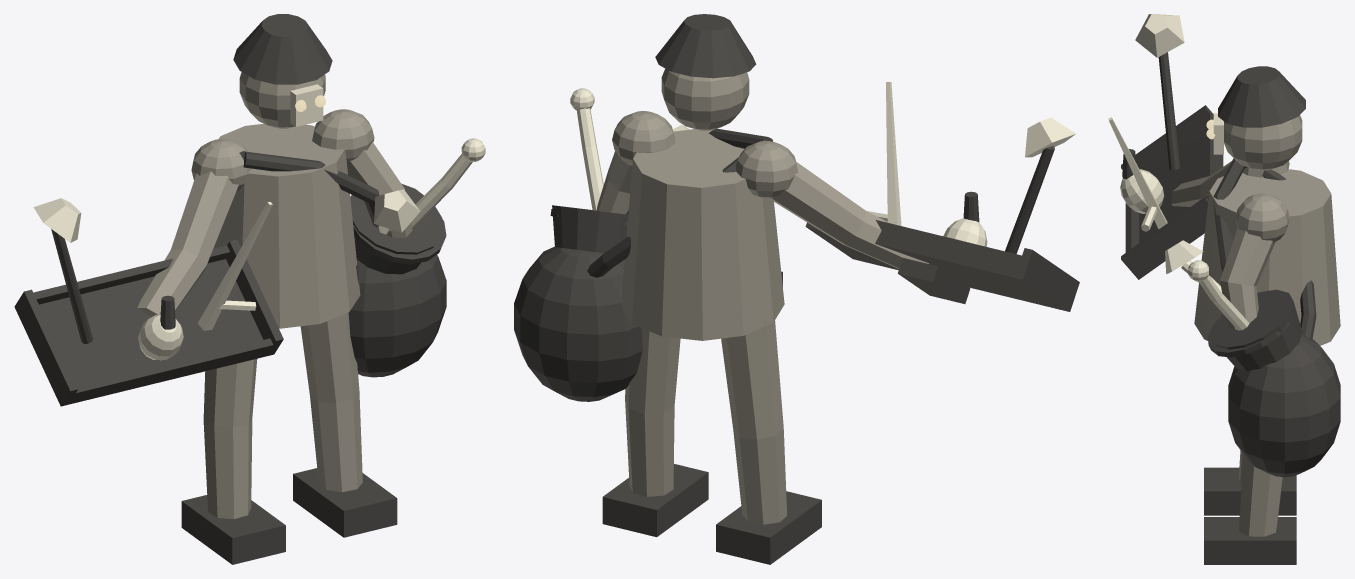
File: almoner.glb
The picture shows the model from 3 angles, left to right: view 1: azimuth 30°, elevation 25°; view 2: azimuth 150°, elevation 25°; view 3: azimuth 270°, elevation 25°; orthographic projection. The views are drawn at different scales.
Parts seen in each view (by area): view 1: almoner_dark, almoner_body, almoner_bone; view 2: almoner_body, almoner_dark, almoner_bone; view 3: almoner_dark, almoner_body, almoner_bone.
Boxes of the visible parts, x1=… form: almoner_dark: x1=14, y1=14, x2=446, y2=564; almoner_body: x1=137, y1=72, x2=412, y2=519; almoner_bone: x1=33, y1=84, x2=485, y2=360; almoner_body: x1=596, y1=68, x2=928, y2=524; almoner_dark: x1=514, y1=14, x2=1079, y2=564; almoner_bone: x1=570, y1=82, x2=1075, y2=246; almoner_dark: x1=1121, y1=52, x2=1340, y2=564; almoner_body: x1=1171, y1=115, x2=1340, y2=536; almoner_bone: x1=1108, y1=14, x2=1249, y2=330.
Size of the model in its own units: 2.48 by 2.52 by 1.17.
